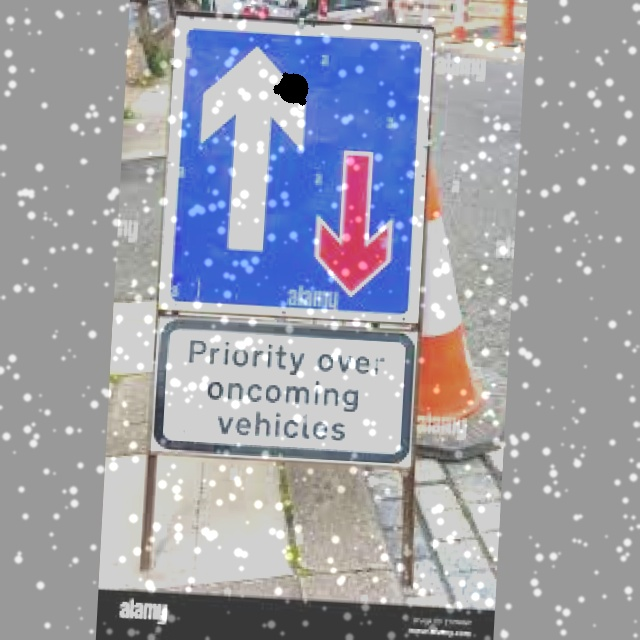Priority_for_Oncoming_Traffic: (172, 26, 425, 317)
